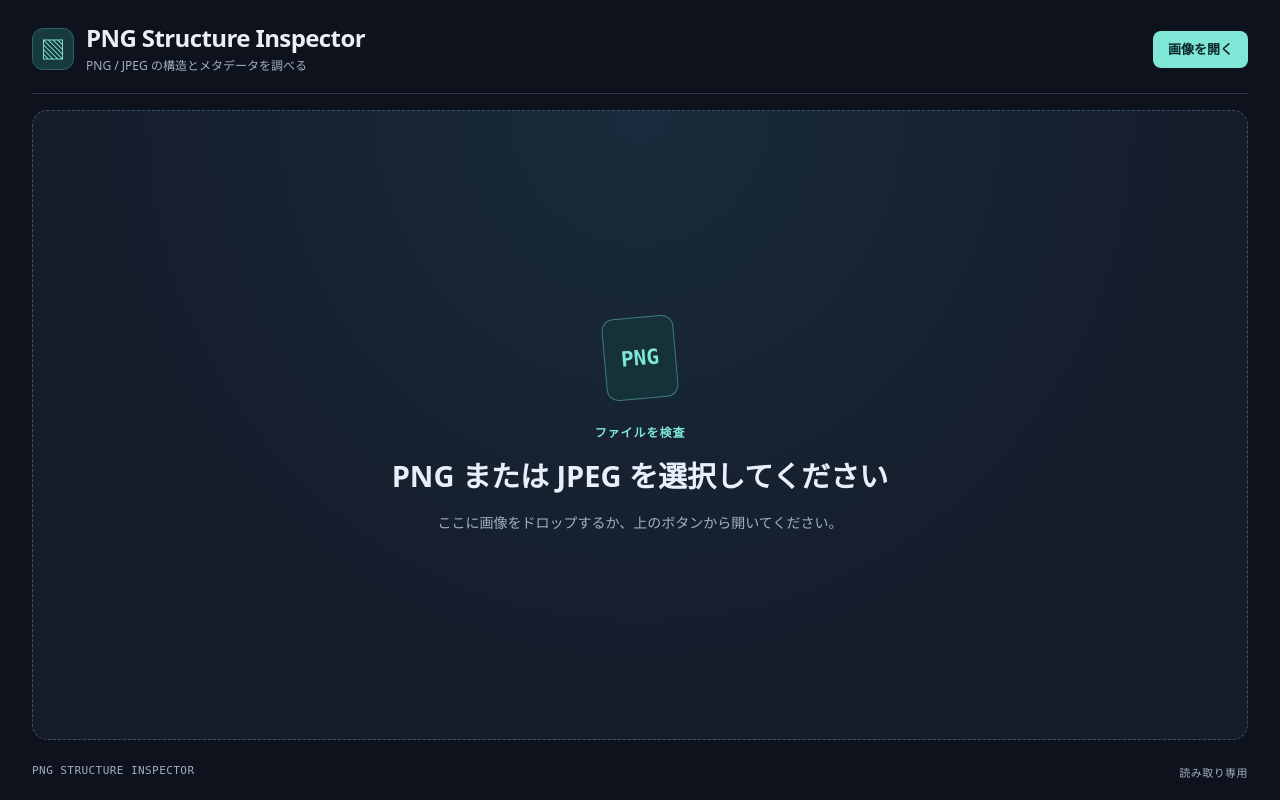
Test: shows JPEG markers and uses the JPEG preview MIME type
The image size is (1280, 800).
Click the button "画像を開く" at (1200, 49), box left=1153, top=31, right=1248, bottom=68
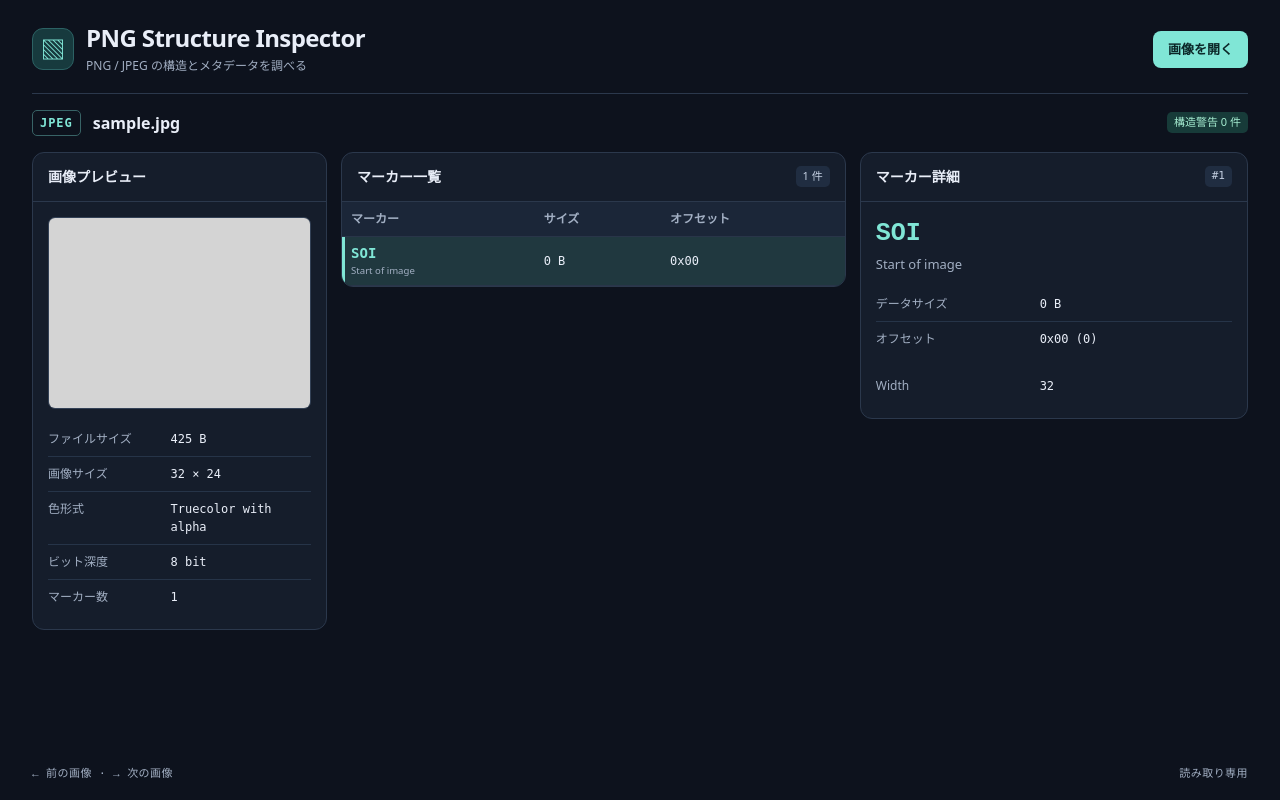
Expected: the button "SOI" is shown, left=351, top=245, right=376, bottom=261
